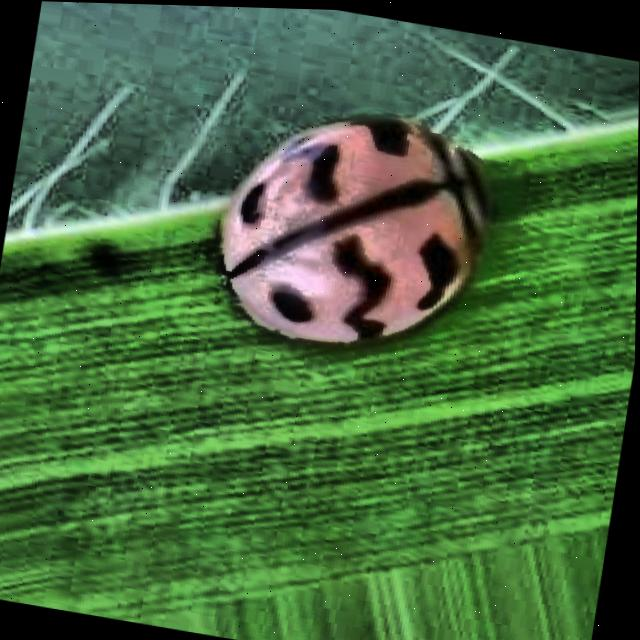Asian-Lady-beetle: (81, 36, 616, 456)
